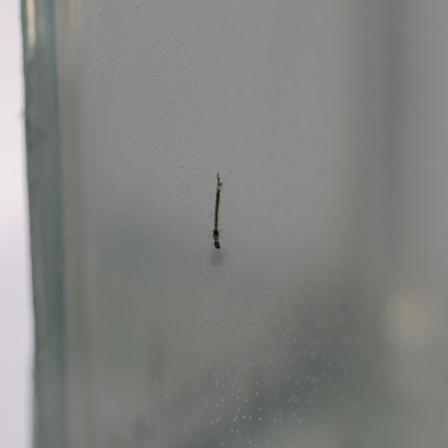Jentik-Nyamuk: (208, 168, 228, 256)
